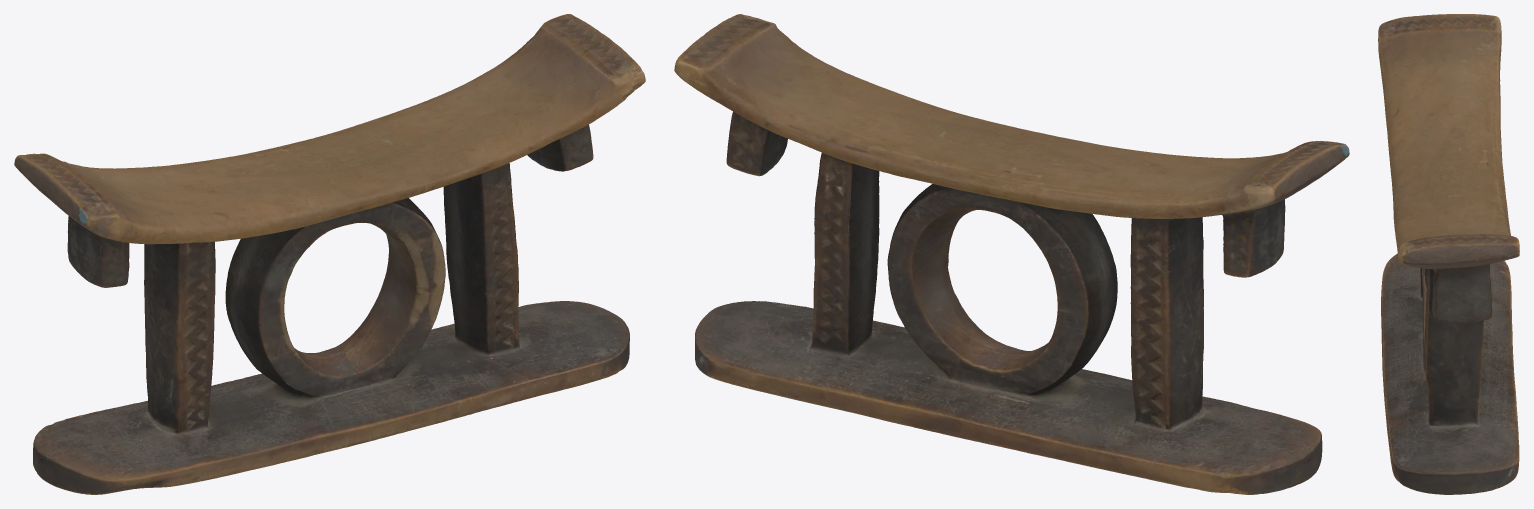
The model's file is preview.glb.
3 renders of one model, left to right at view 1: azimuth 30°, elevation 25°; view 2: azimuth 150°, elevation 25°; view 3: azimuth 270°, elevation 25°, orthographic. The views are drawn at different scales.
Visible parts, largest first — view 1: Model_material0_0; view 2: Model_material0_0; view 3: Model_material0_0.
Boxes of the visible parts, box(x1,y1,x2,y2) form: Model_material0_0: box(14, 14, 645, 494); Model_material0_0: box(674, 14, 1349, 494); Model_material0_0: box(1378, 14, 1519, 494).
Size of the model in its own units: 2.93 by 1.5 by 0.7587.
1 material, 1 textured.
